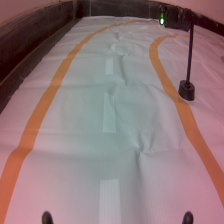green: (156, 4, 197, 102)
